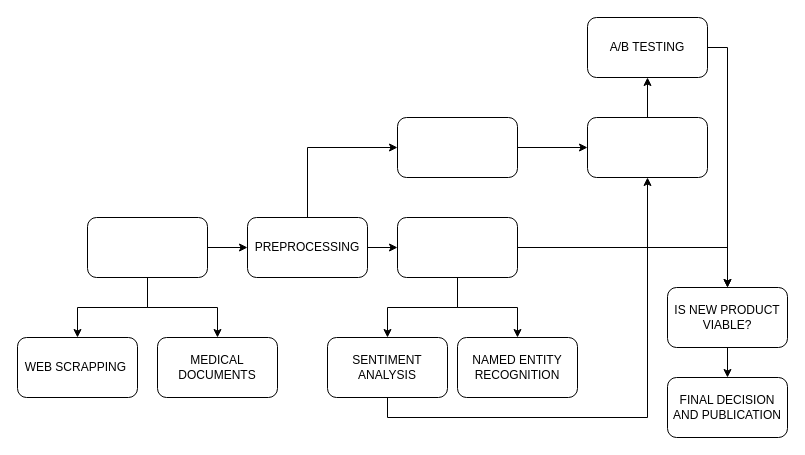
This 805x455 diagram has some shape labels left out. Each missing label, with the centre of its shape:
DATA COLLECTION: (147,247)
GENNERATIVE AI (CTGAEN): (457,147)
LLM MODEL (LLAMA): (457,247)
NEW PRODUCT SPECIFICATIONS: (647,147)
